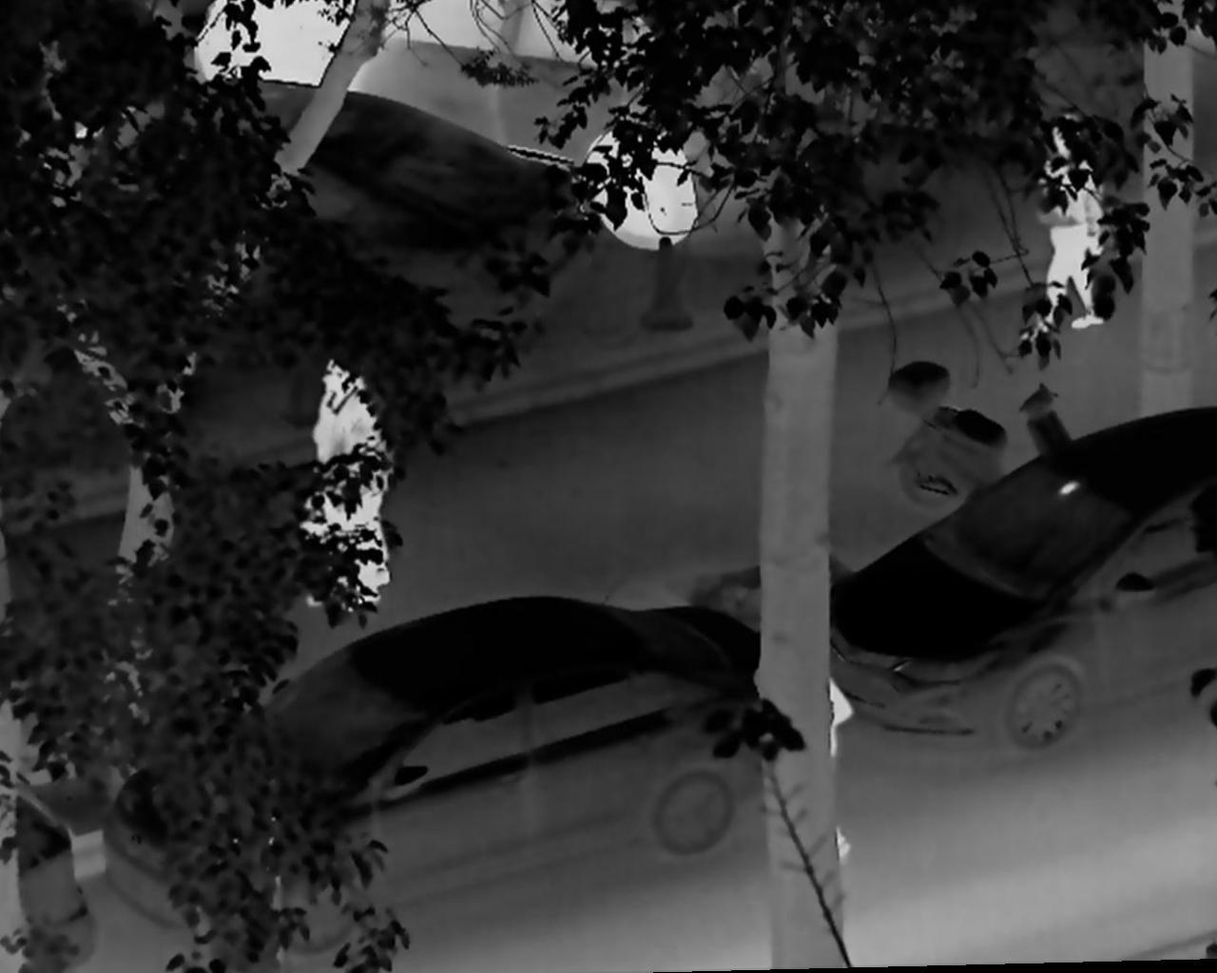person: (301, 359, 393, 620), (298, 356, 396, 591), (1019, 111, 1110, 340), (815, 667, 857, 864)
